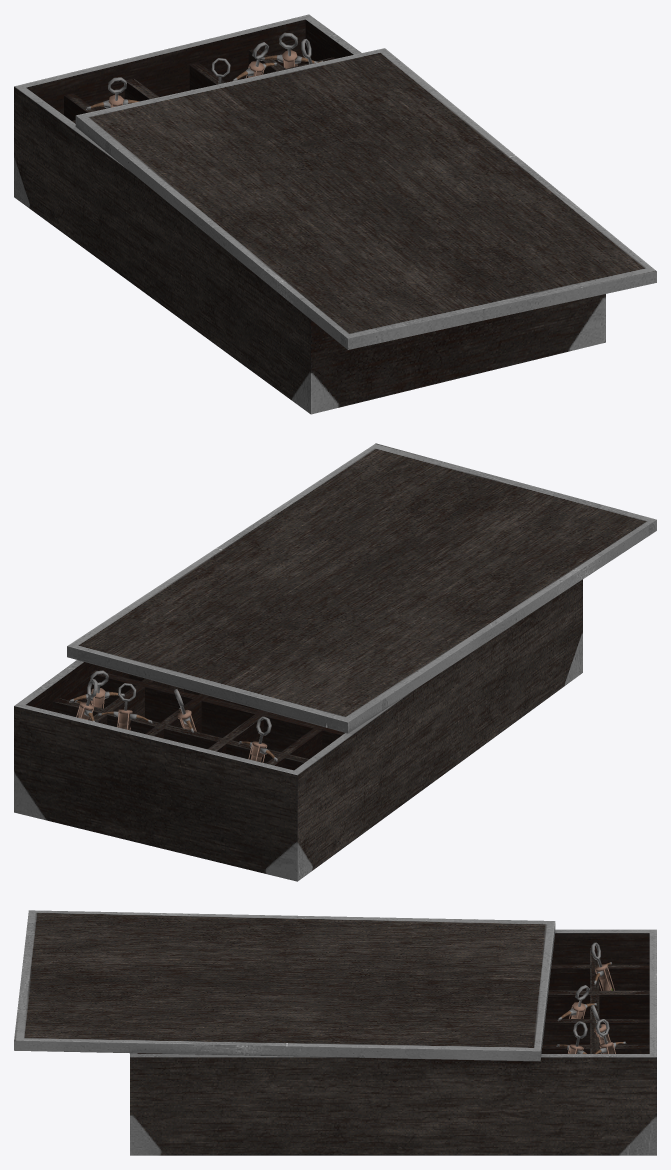
The model's file is SM_Syringe_crate.fbx.
3 views of the same model, one above another, from view 1: azimuth 30°, elevation 25°; view 2: azimuth 150°, elevation 25°; view 3: azimuth 270°, elevation 25° (orthographic). The views are drawn at different scales.
Parts seen in each view (by area): view 1: Cube.008; view 2: Cube.008; view 3: Cube.008.
Part boxes in pixels (x1,y1,x2,y2): Cube.008: (14,14,656,414); Cube.008: (14,443,656,881); Cube.008: (14,910,656,1155).
Bounding box in the file's own units: 119 × 48.12 × 230.
